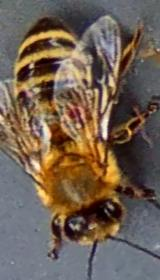varroa_mite: (64, 99, 88, 126)
